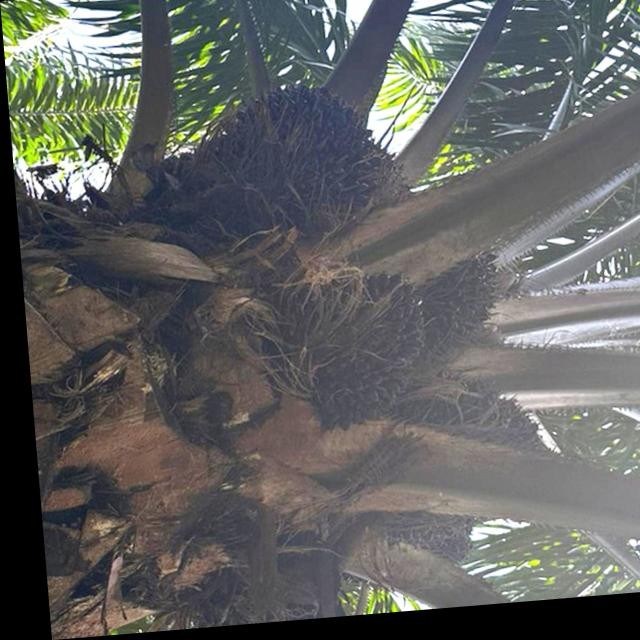almost: (163, 74, 406, 238), (366, 384, 549, 533), (266, 272, 437, 431), (409, 249, 505, 352)
